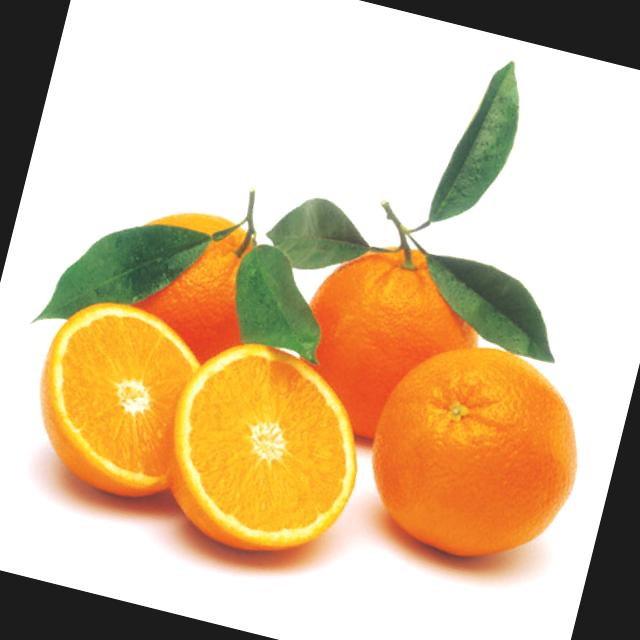orange: (349, 326, 607, 591), (46, 176, 300, 421), (274, 225, 510, 478)
